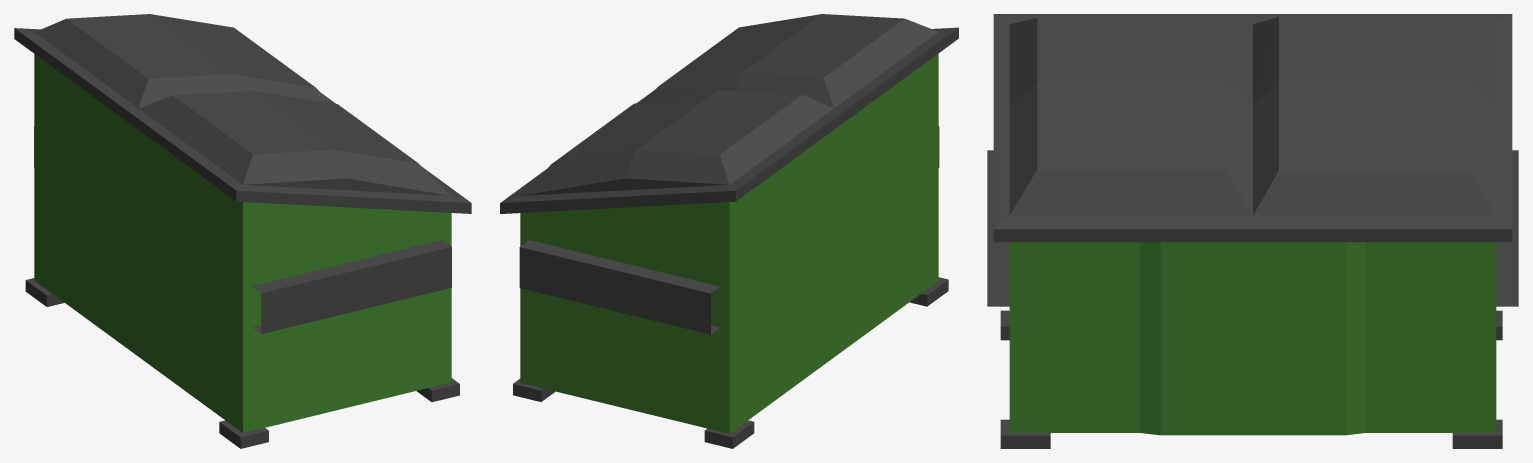
The model's file is garbage_big.fbx.
The picture shows the model from 3 angles, left to right: view 1: azimuth 30°, elevation 25°; view 2: azimuth 150°, elevation 25°; view 3: azimuth 270°, elevation 25°; orthographic projection. The views are drawn at different scales.
Visible parts, largest first — view 1: garbage_big; view 2: garbage_big; view 3: garbage_big.
Part boxes in pixels (left/top/right/bottom): garbage_big: left=14, top=14, right=471, bottom=448; garbage_big: left=500, top=14, right=958, bottom=448; garbage_big: left=987, top=14, right=1518, bottom=448.
Size of the model in its own units: 183 by 206 by 307.
